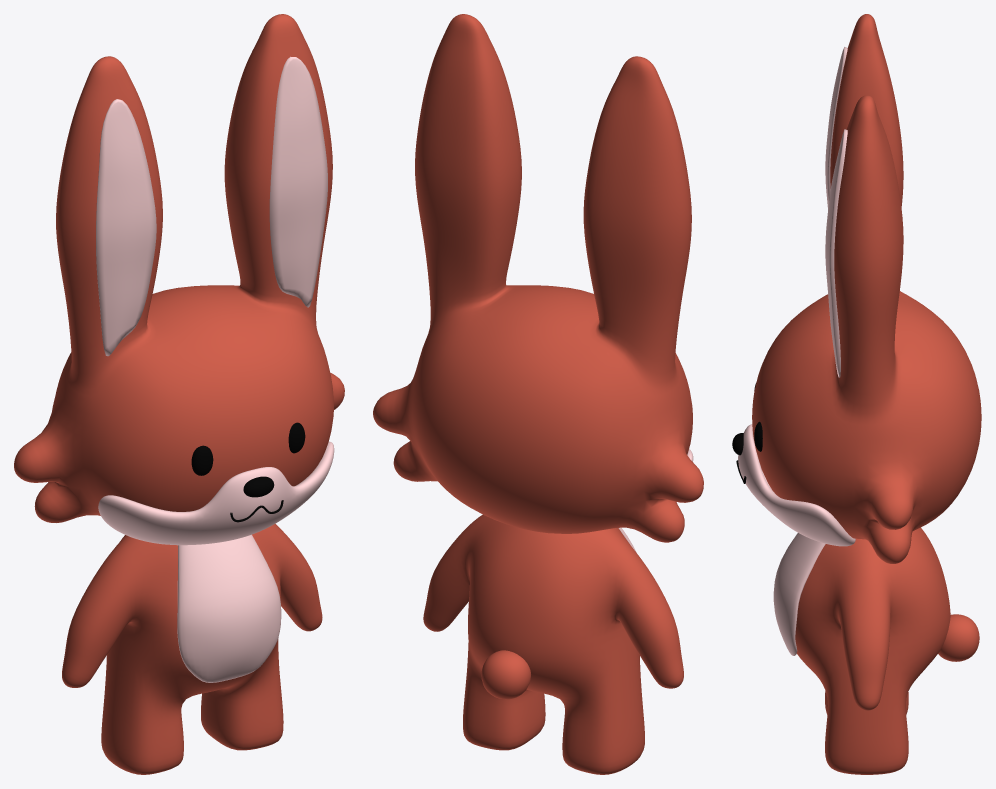
Rendered from Rabbit.obj.
3 renders of one model, left to right at view 1: azimuth 30°, elevation 25°; view 2: azimuth 150°, elevation 25°; view 3: azimuth 270°, elevation 25°, orthographic. The views are drawn at different scales.
Parts seen in each view (by area): view 1: Cube, Cube.001, Cube.003, Cube.004, Cube.002, Cube.005; view 2: Cube, Cube.001, Cube.007; view 3: Cube, Cube.001, Cube.002, Cube.004, Cube.003, Cube.007.
Part boxes in pixels (<box>): Cube: <box>14,14,344,522</box>; Cube.001: <box>62,523,322,774</box>; Cube.003: <box>96,56,327,356</box>; Cube.004: <box>177,534,281,682</box>; Cube.002: <box>98,441,334,545</box>; Cube.005: <box>191,422,305,475</box>; Cube: <box>373,14,703,542</box>; Cube.001: <box>423,514,683,774</box>; Cube.007: <box>481,650,530,699</box>; Cube: <box>752,14,981,563</box>; Cube.001: <box>795,527,950,774</box>; Cube.002: <box>738,424,855,546</box>; Cube.004: <box>773,533,825,655</box>; Cube.003: <box>825,47,847,377</box>; Cube.007: <box>938,614,979,661</box>.
Bounding box in the file's own units: 2.53 × 5.28 × 1.74.
